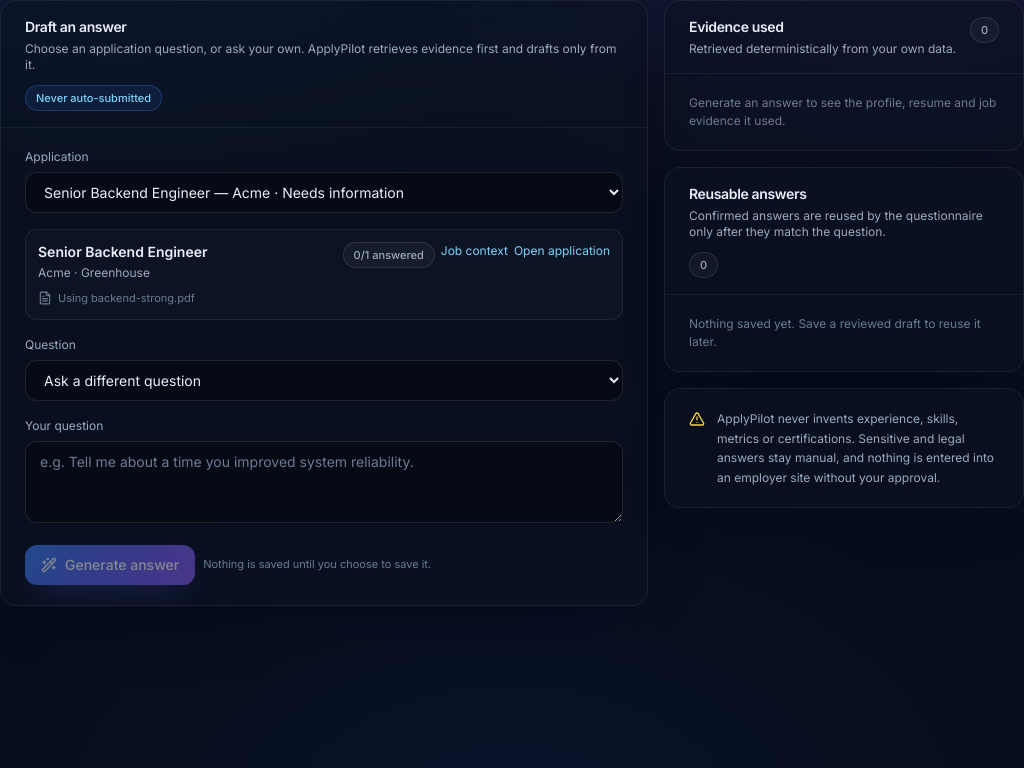
Test: AnswerAssistant › shows a safe error when the draft request fails
Select "Why do you want to work here? (required)" in the dropdown labelled "Question" at (324, 380), box [25,360,623,400]
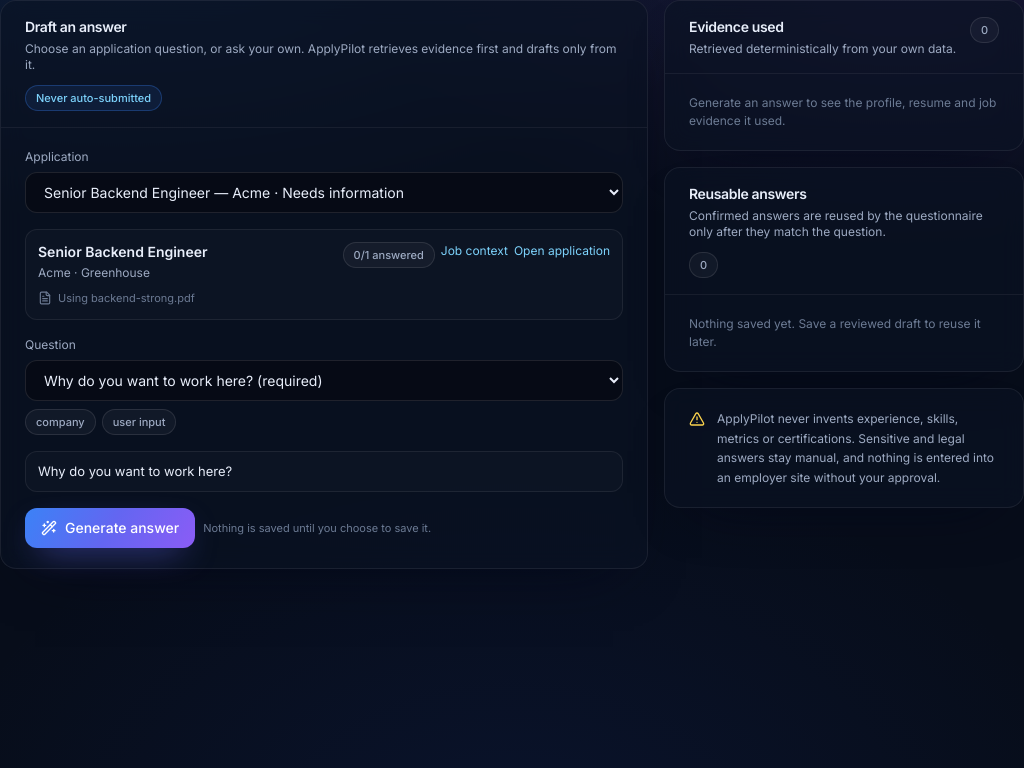
Click the button "Generate answer" at (110, 528), box [25,508,195,548]
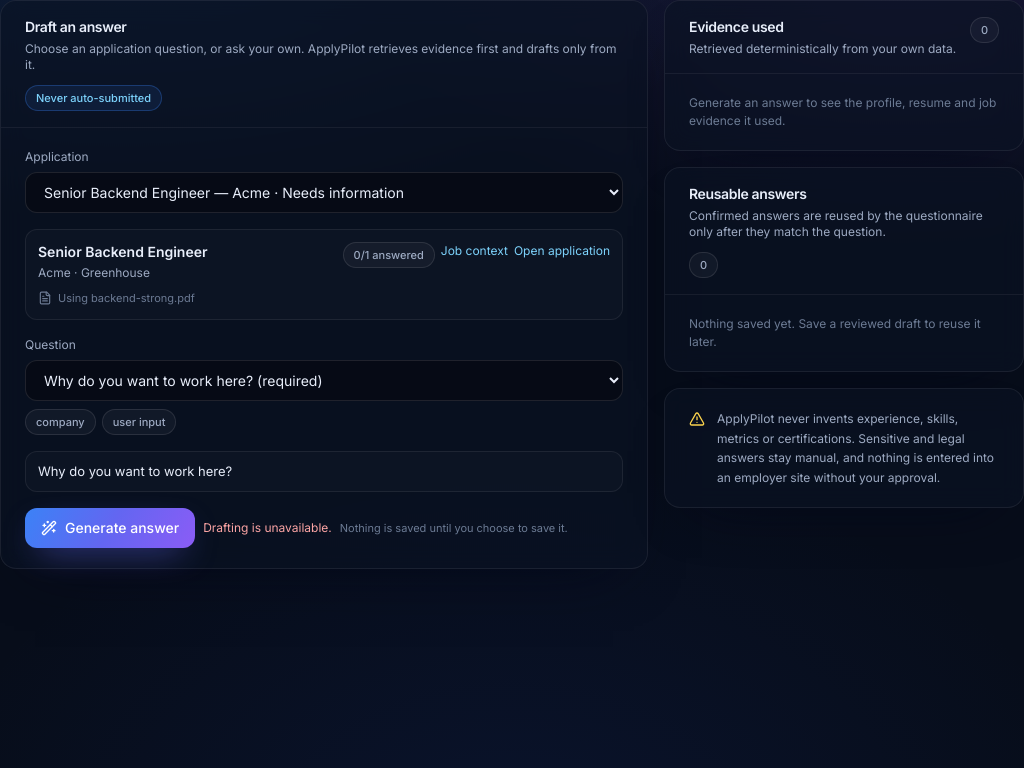
Expected: the text "Drafting is unavailable." is shown, [203,519,332,537]
